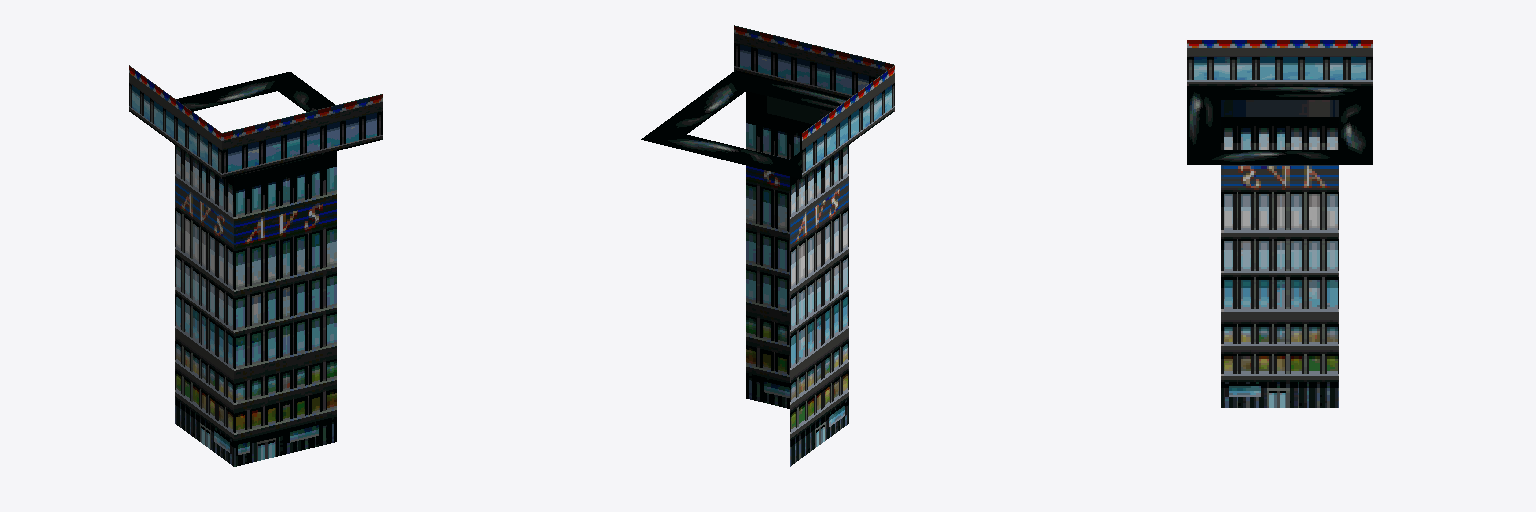
3 views of the same model, side by side, from view 1: azimuth 30°, elevation 25°; view 2: azimuth 150°, elevation 25°; view 3: azimuth 270°, elevation 25° (orthographic).
Size of the model in its own units: 495 by 1035 by 495.
Materials: 1 (1 with a texture image).